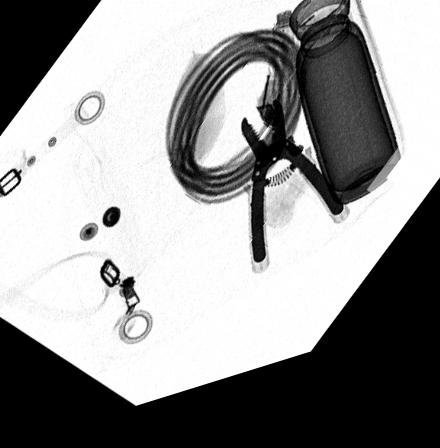Pliers: (238, 115, 347, 281)
